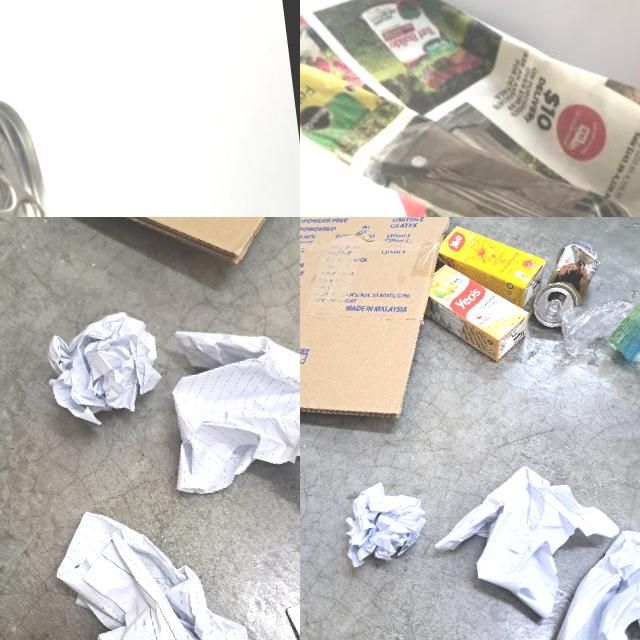aba de lata: (0, 159, 50, 217)
caixinha: (421, 252, 534, 370), (435, 217, 553, 315)
garrafa plástica: (557, 293, 640, 408)
lata: (527, 236, 604, 328)
papel: (300, 0, 640, 217), (47, 485, 300, 640), (424, 453, 631, 636), (162, 304, 300, 534), (38, 303, 168, 432), (541, 521, 640, 640), (338, 474, 431, 570)
papelão: (300, 217, 499, 440), (80, 217, 300, 283)
tampa plástica: (542, 298, 568, 330)
